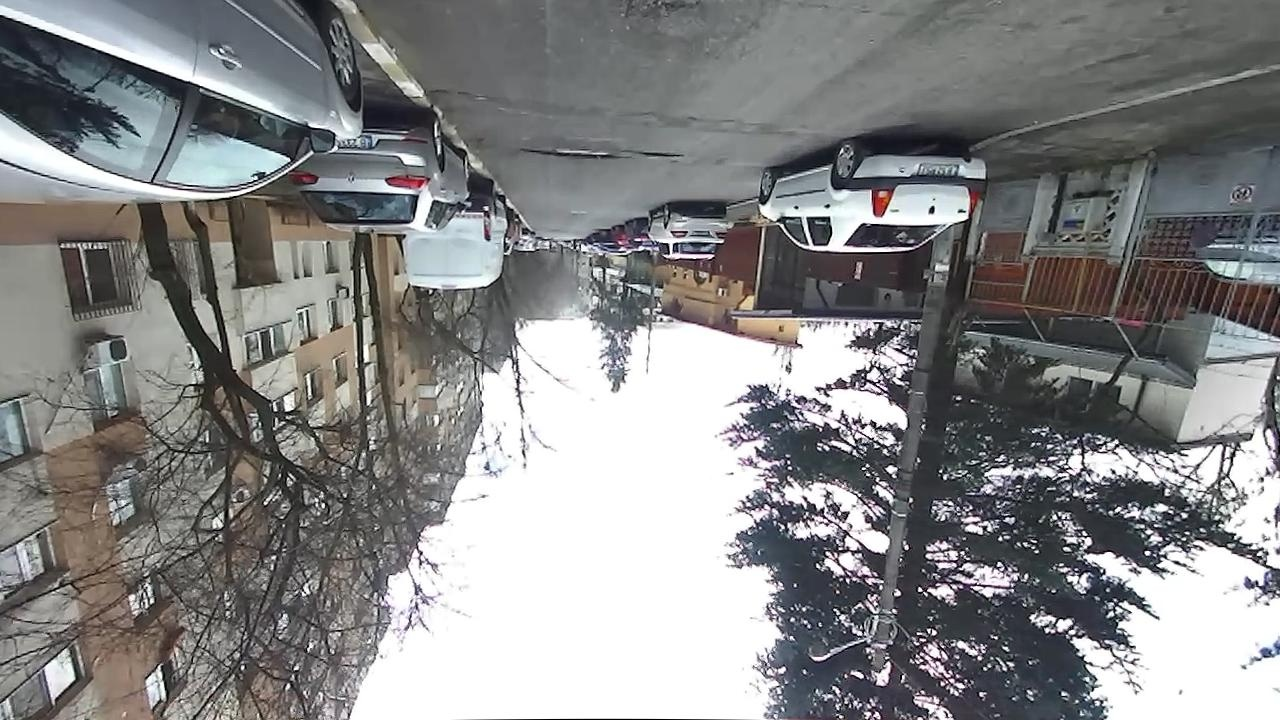pothole: (523, 146, 613, 160), (624, 0, 684, 12), (635, 150, 683, 157)
